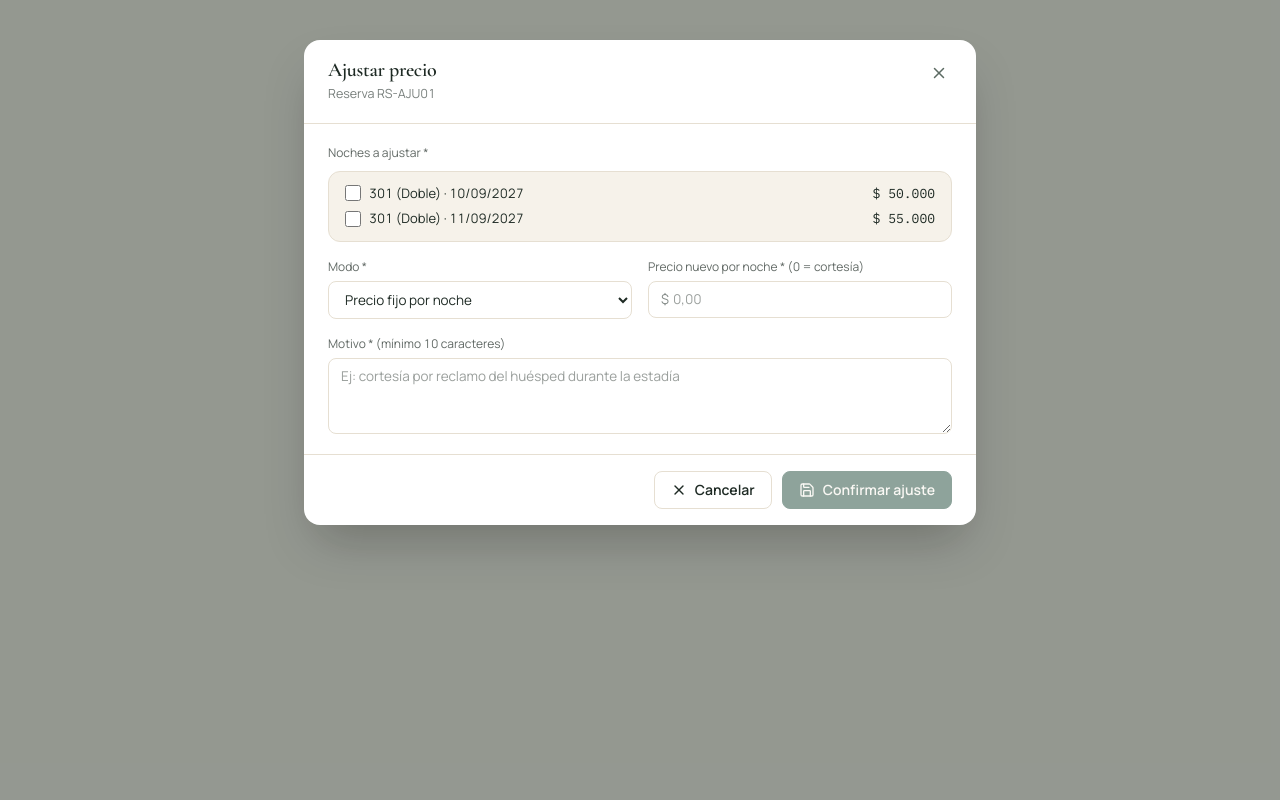
Test: AjustePrecioModal — selección de noches y vista previa automática › con noche + modo + valor + motivo completos, consulta sola una vista previa (soloPrevia) y la muestra
Click the checkbox labelled "301 (Doble) · 10/09/2027 $ 50.000". click: (353, 193)
box: [345,185,361,201]
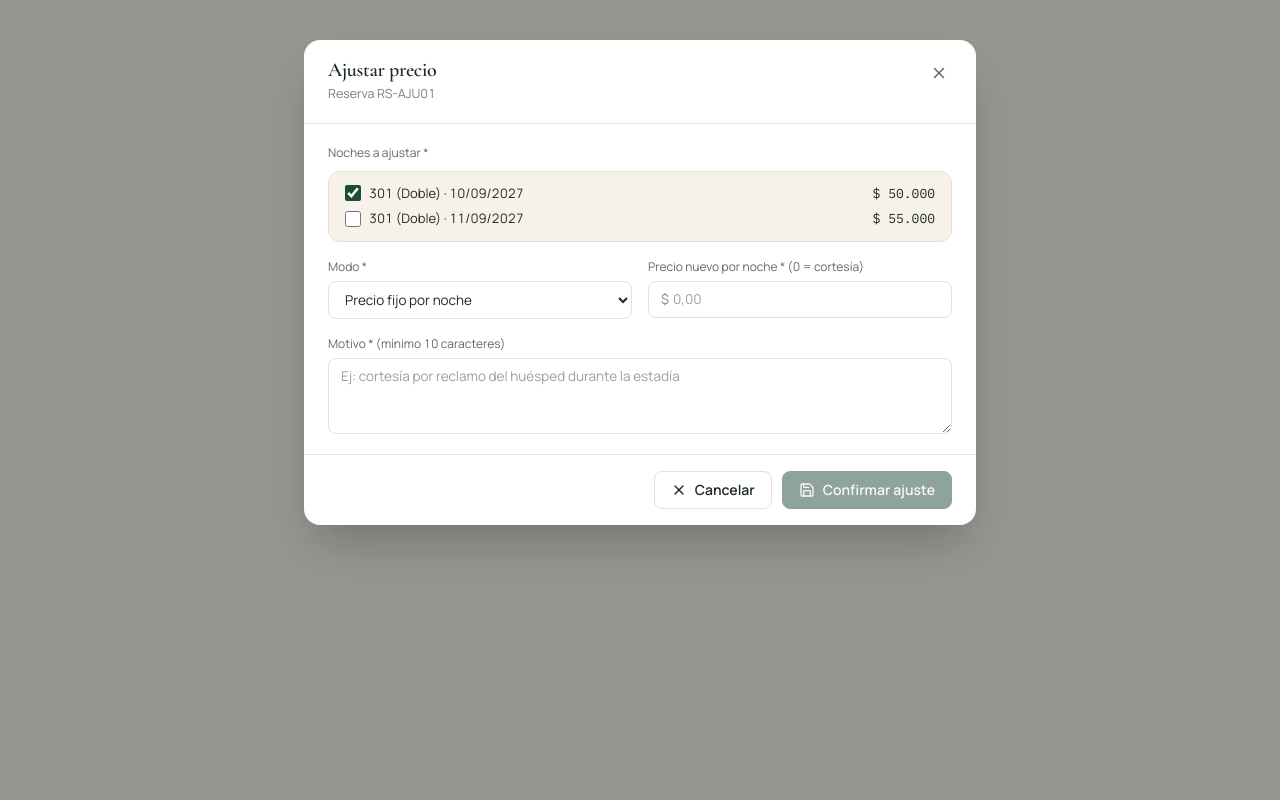
Type "50" into the field labelled "Precio nuevo por noche * (0 = cortesía) $". click: (806, 299)
box: [673,290,939,309]
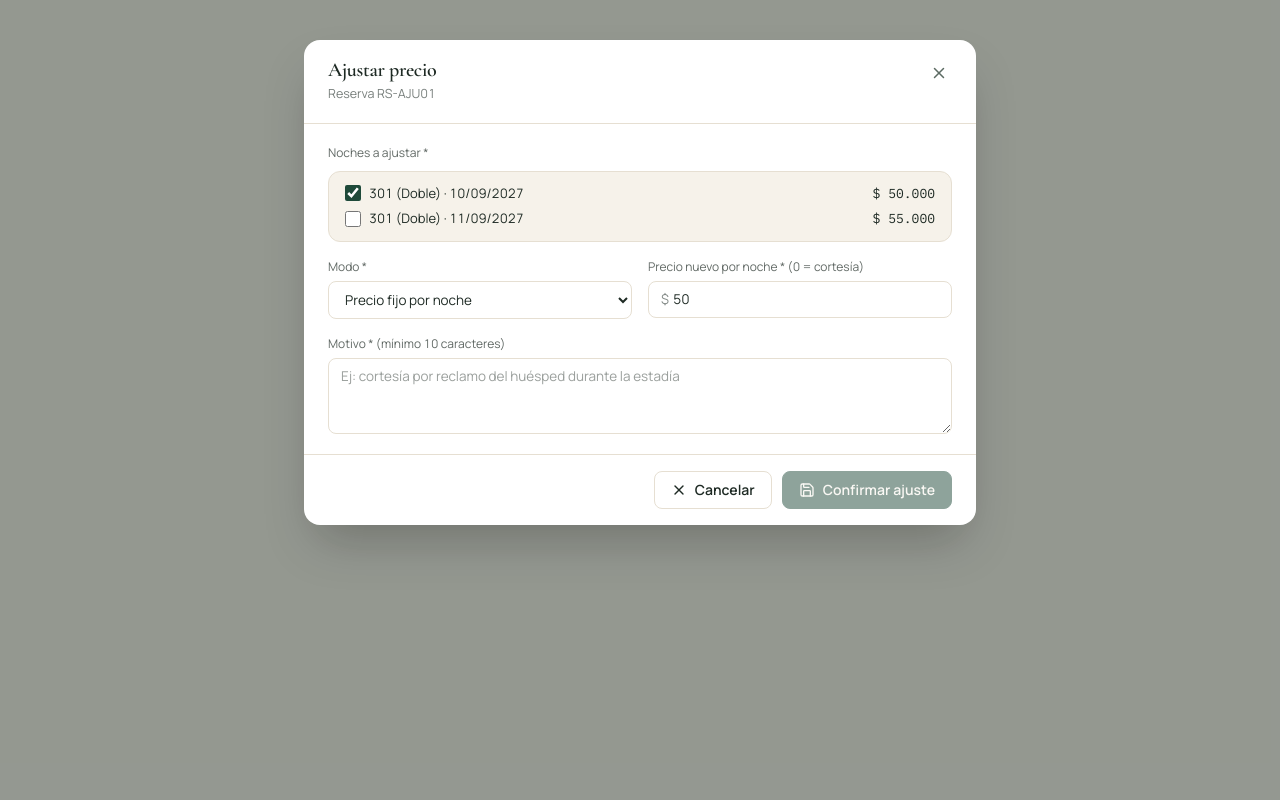
Type "Cortesía por reclamo del huésped" into the text box labelled "Motivo * (mínimo 10 caracteres)". click: (640, 396)
box: [328,358,952,434]
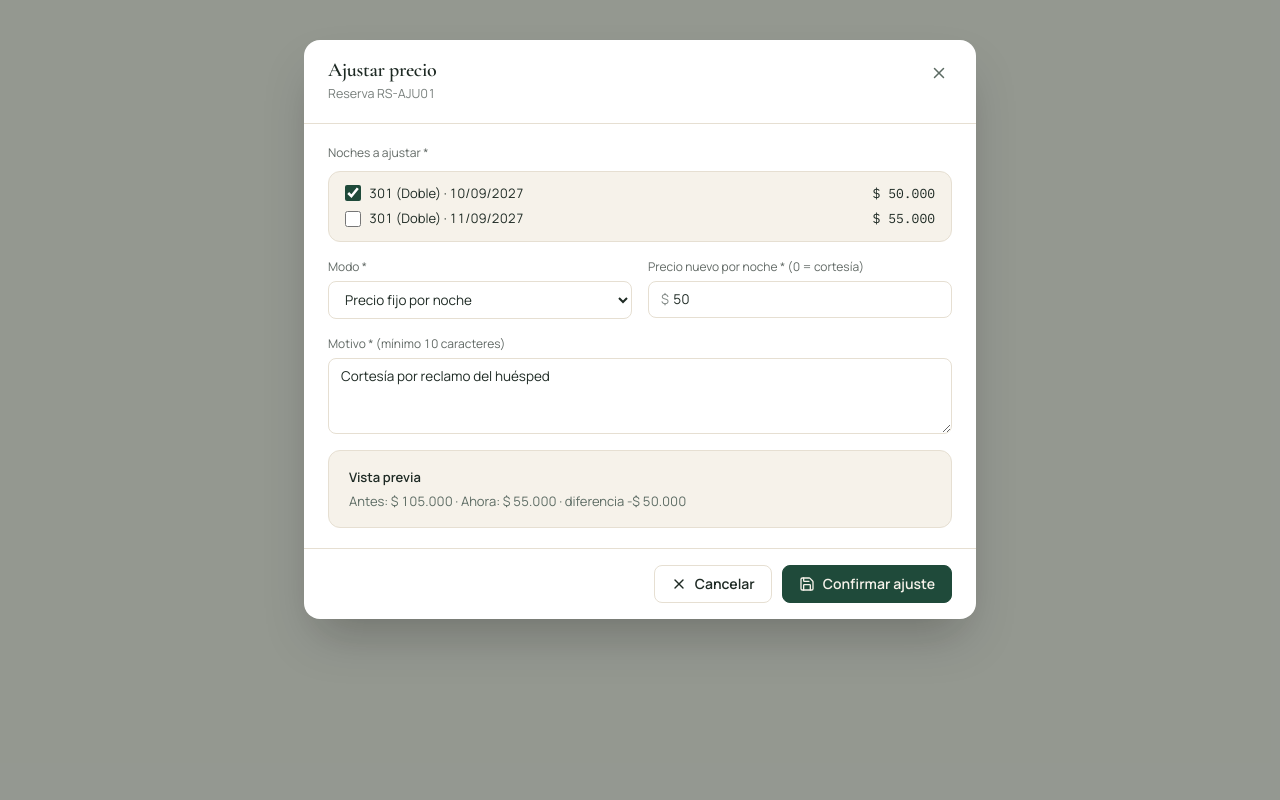
Now the text "Vista previa" is shown, box [349,468,421,486]
Now the text "Antes: $ 105.000 · Ahora: $ 55.000 · diferencia -$ 50.000" is shown, box [349,492,686,510]
